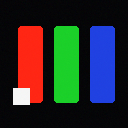1 square: (13, 88, 29, 104)
